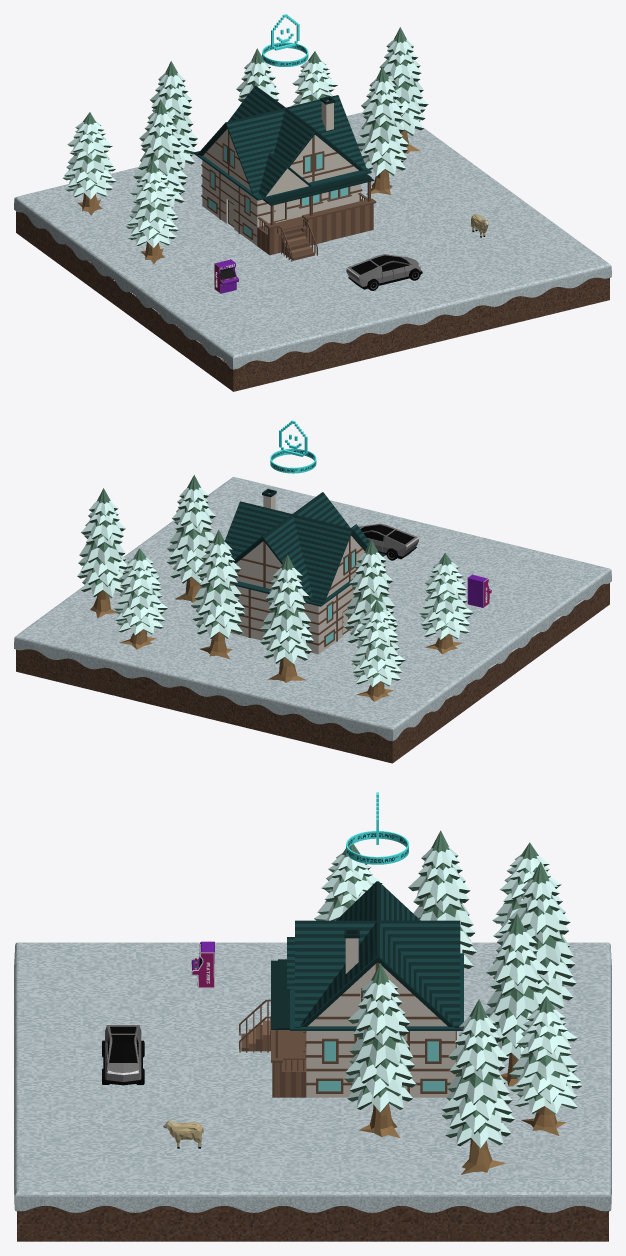
3 renders of one model, top to bottom at view 1: azimuth 30°, elevation 25°; view 2: azimuth 150°, elevation 25°; view 3: azimuth 270°, elevation 25°, orthographic. The views are drawn at different scales.
Parts seen in each view (by area): view 1: Cube.003, Cube.793, VEHICLES_CYBERTRUCK, TYPE_PREMIUM, OBJRANDOM_ARCADE; view 2: Cube.003, Cube.793, VEHICLES_CYBERTRUCK, TYPE_PREMIUM, OBJRANDOM_ARCADE; view 3: Cube.003, Cube.793, VEHICLES_CYBERTRUCK, TYPE_PREMIUM, OBJRANDOM_ARCADE, ANIMAL_OVEJA.
Boxes of the visible parts, box(x1,y1,x2,y2) form: Cube.003: box(14, 27, 611, 391); Cube.793: box(194, 85, 376, 261); VEHICLES_CYBERTRUCK: box(346, 254, 422, 290); TYPE_PREMIUM: box(262, 14, 308, 66); OBJRANDOM_ARCADE: box(214, 259, 238, 293); Cube.003: box(14, 475, 611, 763); Cube.793: box(225, 489, 388, 654); VEHICLES_CYBERTRUCK: box(358, 523, 418, 560); TYPE_PREMIUM: box(270, 420, 316, 473); OBJRANDOM_ARCADE: box(467, 574, 491, 607); Cube.003: box(14, 830, 611, 1241); Cube.793: box(239, 881, 463, 1097); VEHICLES_CYBERTRUCK: box(102, 1024, 144, 1085); TYPE_PREMIUM: box(346, 792, 408, 864); OBJRANDOM_ARCADE: box(191, 941, 214, 988); ANIMAL_OVEJA: box(163, 1120, 203, 1148).
Bounding box in the file's own units: 4040 × 2568 × 4040.
32 materials, 5 textured.
